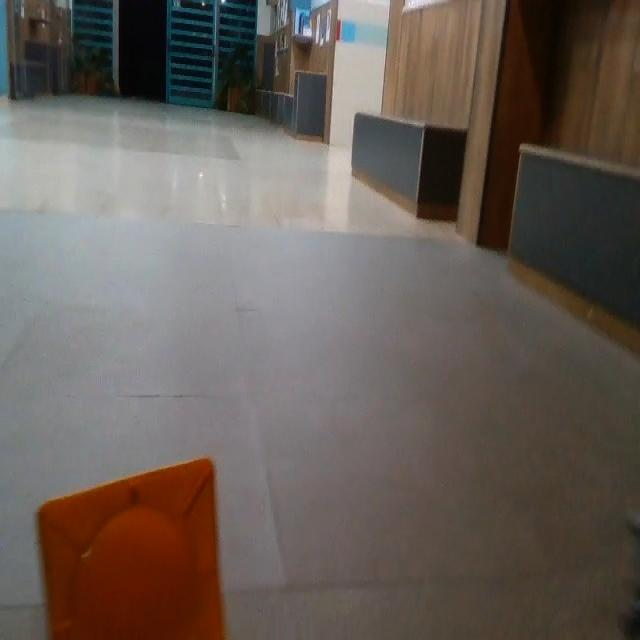cone: (34, 452, 225, 640)
